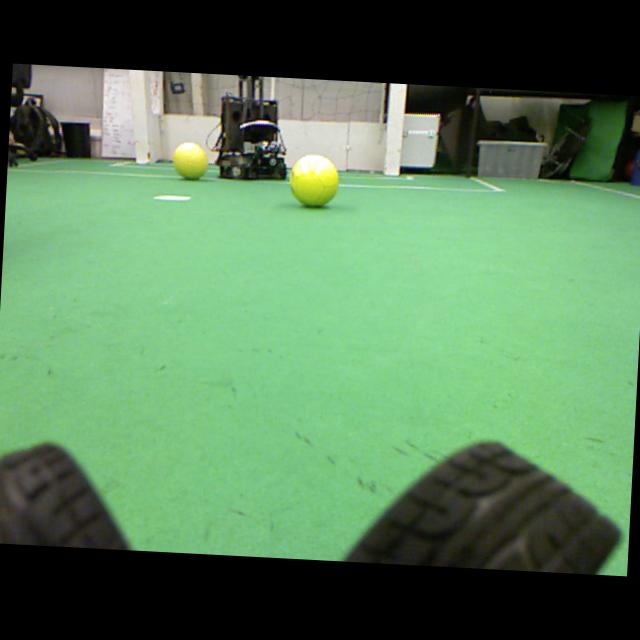ball: (290, 155, 339, 207), (174, 142, 207, 179)
goal: (129, 70, 149, 164), (386, 83, 406, 176)
robot: (212, 75, 287, 181)
